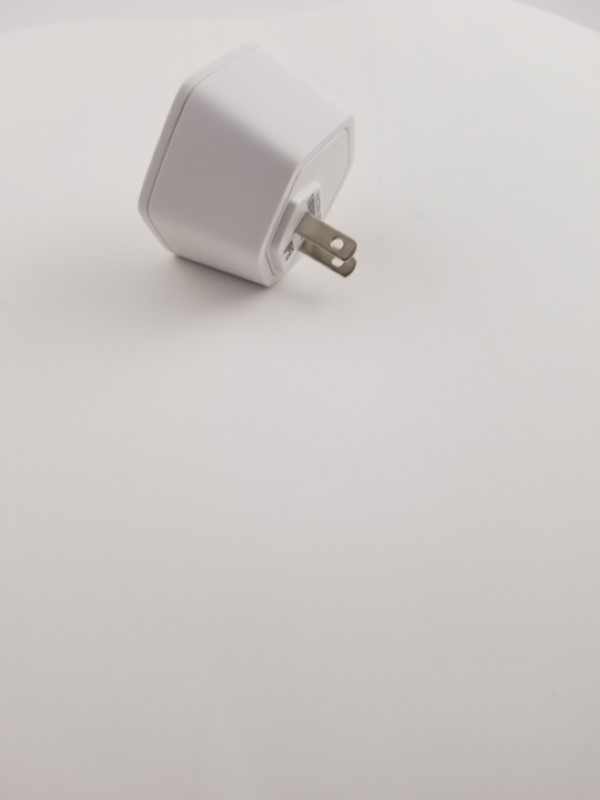pod: (134, 41, 377, 305)
